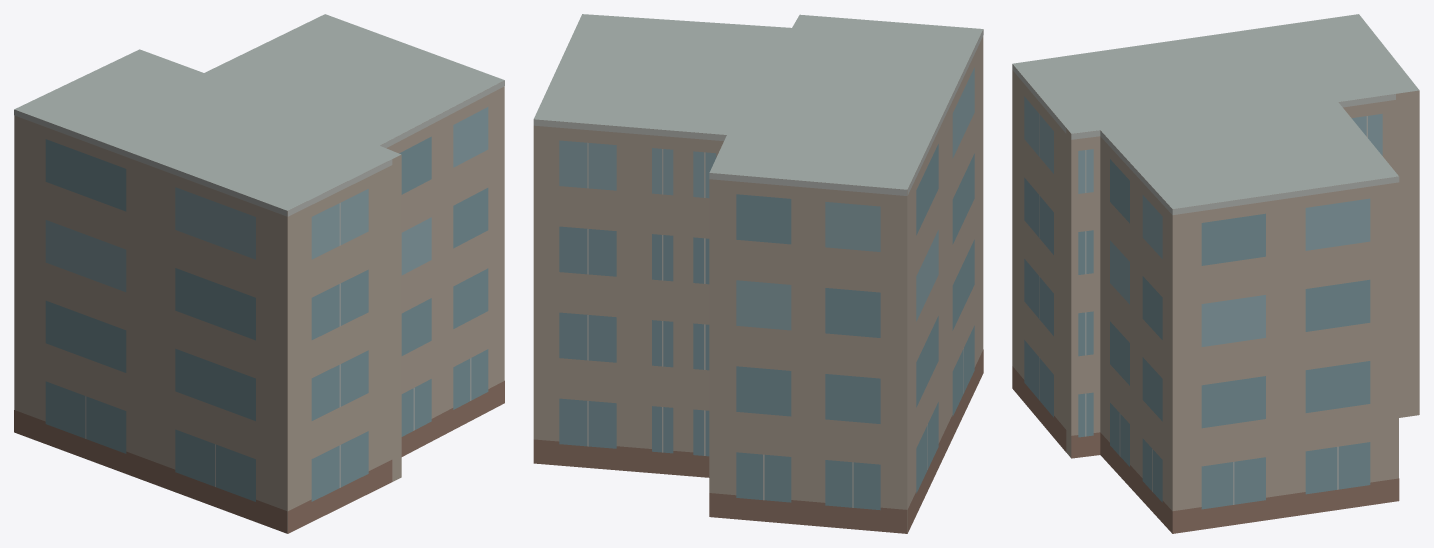
The model's file is survey-upis-32966015.glb.
The picture shows the model from 3 angles, left to right: view 1: azimuth 30°, elevation 25°; view 2: azimuth 150°, elevation 25°; view 3: azimuth 270°, elevation 25°; orthographic projection. The views are drawn at different scales.
Visible parts, largest first — view 1: survey-upis-32966015.tmp; view 2: survey-upis-32966015.tmp; view 3: survey-upis-32966015.tmp.
Part boxes in pixels (left/top/right/bottom): survey-upis-32966015.tmp: left=14, top=14, right=504, bottom=533; survey-upis-32966015.tmp: left=533, top=14, right=983, bottom=533; survey-upis-32966015.tmp: left=1012, top=14, right=1419, bottom=533.
Size of the model in its own units: 17.03 by 13.2 by 15.02.
